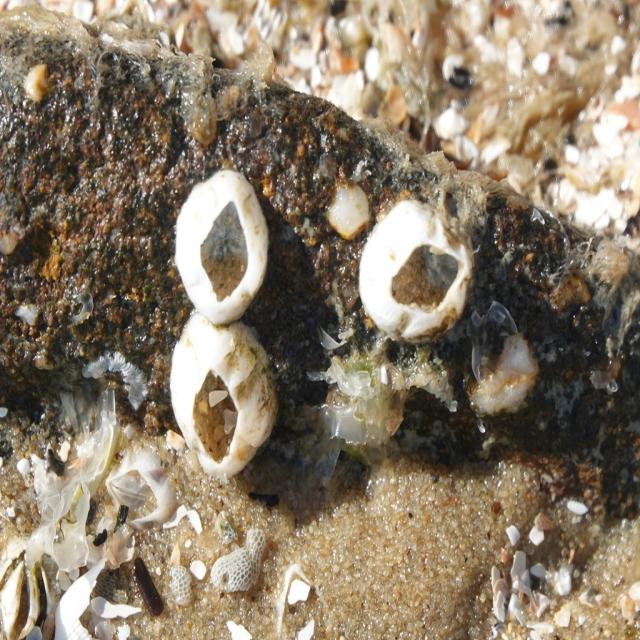barnacles: (167, 330, 281, 481), (350, 212, 470, 338), (172, 177, 272, 326)
